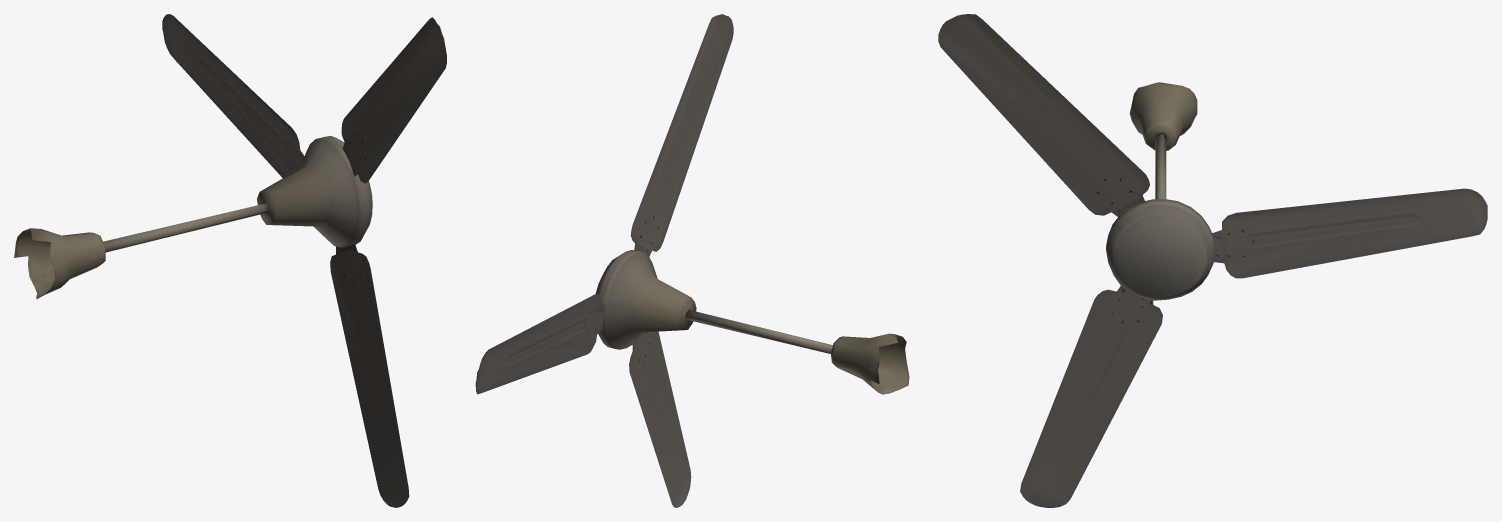
Rendered from tripo_convert_bbec0aaa-907d-4e1e-8299-5093fa2271ae.fbx.
3 views of the same model, side by side, from view 1: azimuth 30°, elevation 25°; view 2: azimuth 150°, elevation 25°; view 3: azimuth 270°, elevation 25° (orthographic). The views are drawn at different scales.
Visible parts, largest first — view 1: tripo_node_bbec0aaa; view 2: tripo_node_bbec0aaa; view 3: tripo_node_bbec0aaa.
Boxes of the visible parts, x1,y1,x2,y2 form: tripo_node_bbec0aaa: (14, 14, 446, 507); tripo_node_bbec0aaa: (475, 14, 909, 507); tripo_node_bbec0aaa: (938, 14, 1487, 507).
Size of the model in its own units: 0.6465 by 0.9941 by 0.998.
Materials: 1 (1 with a texture image).
